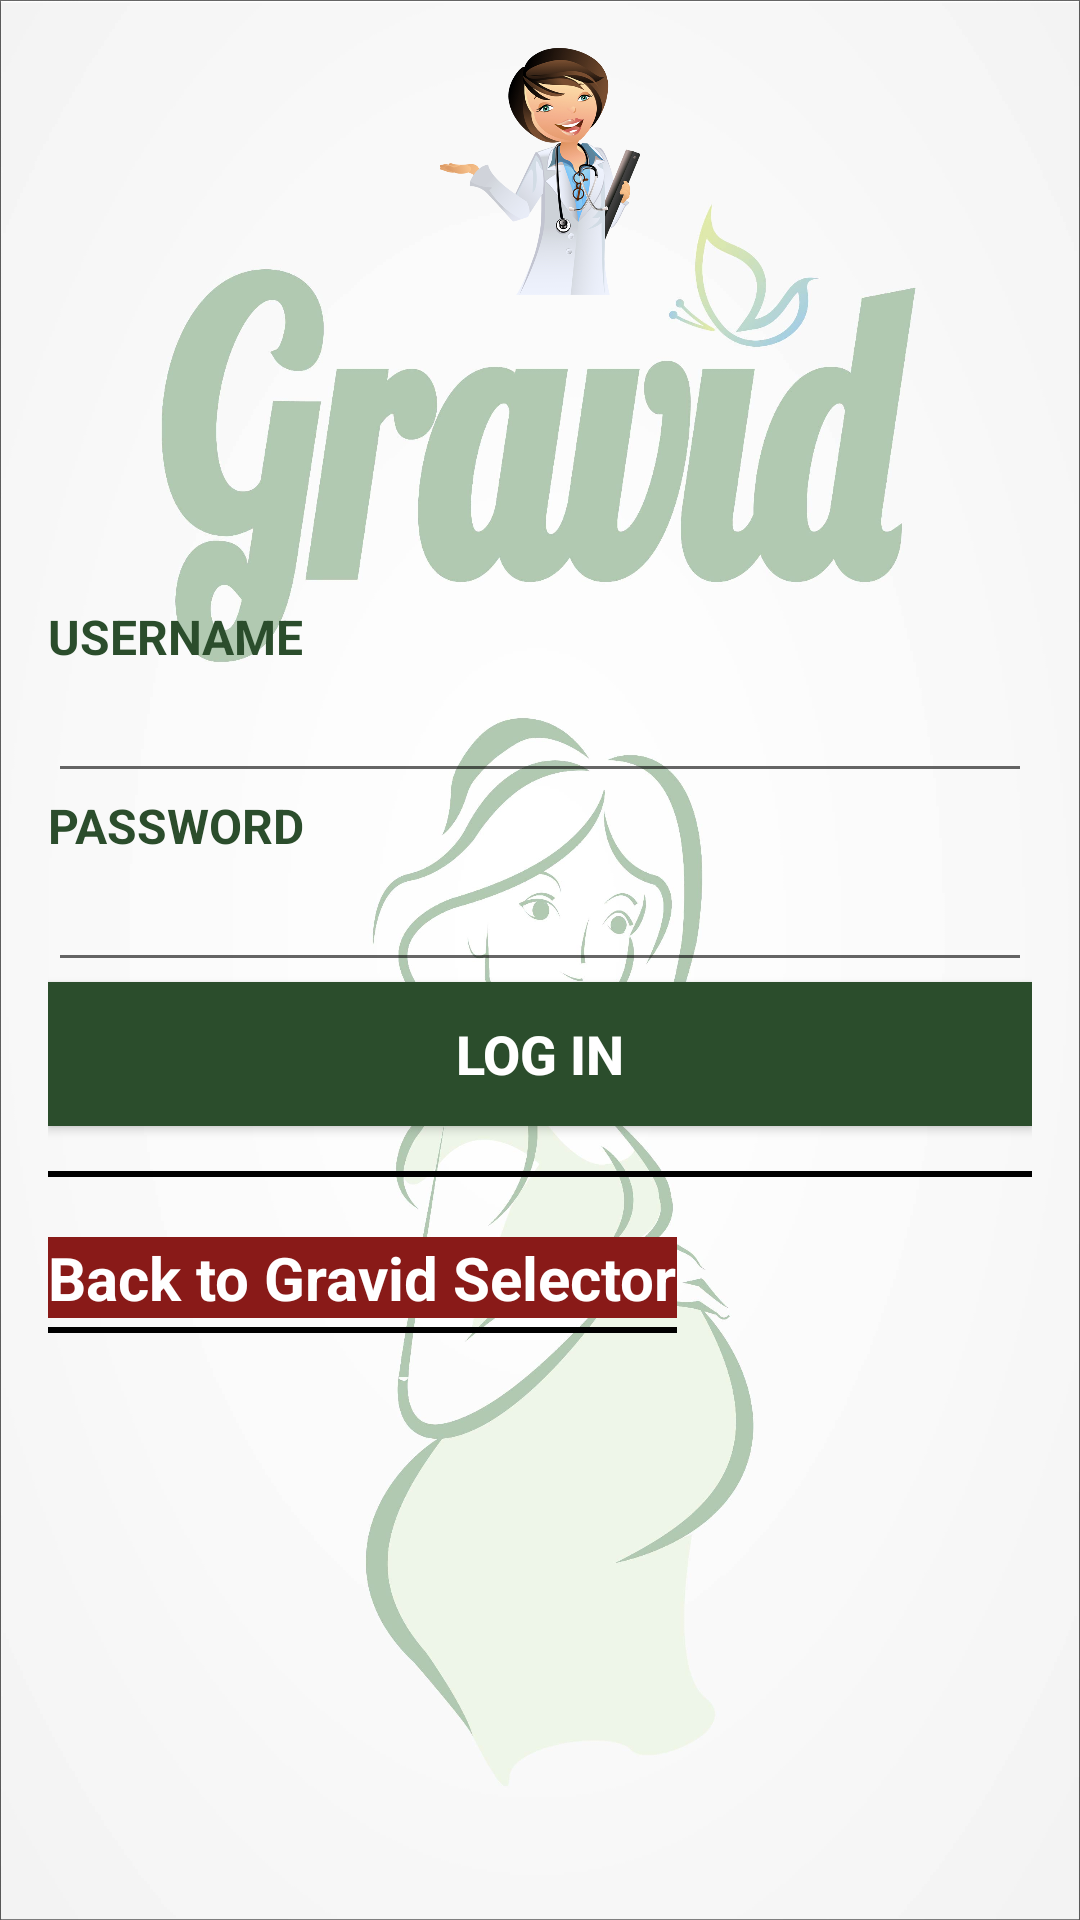

Point at icon controls on the screen. Image size 1080 x 1920, points as [x,y].
doctor: [540,171]
